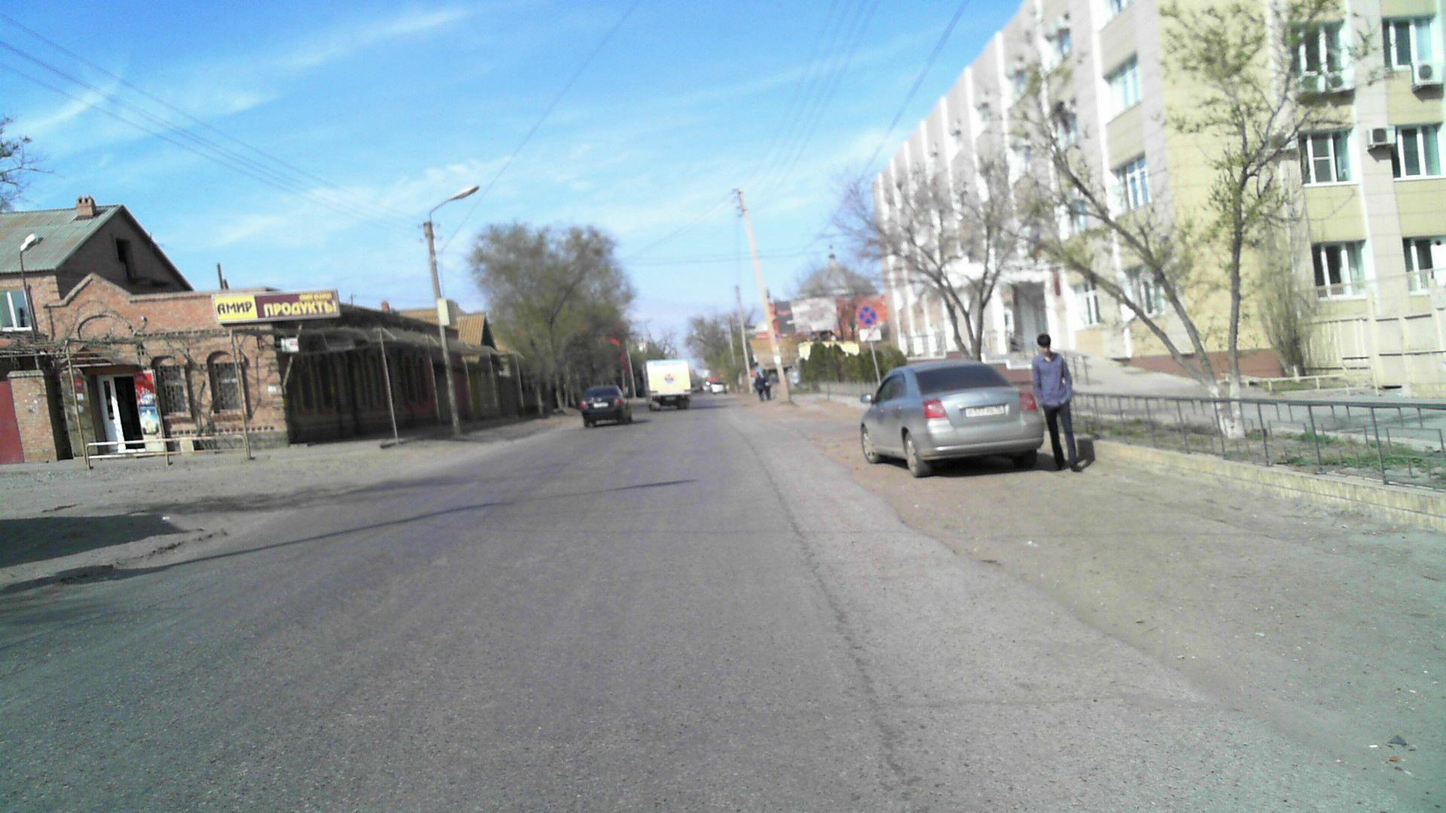road_sign: (856, 303, 878, 327)
